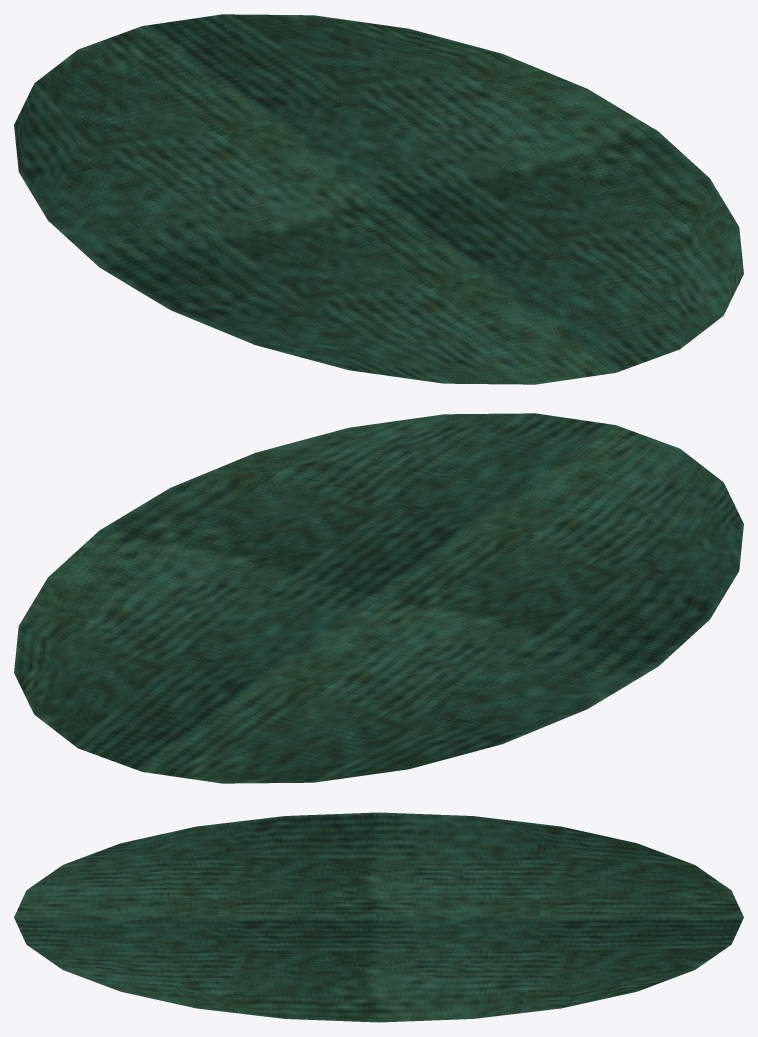
File: tapete_oval.fbx
3 renders of one model, top to bottom at view 1: azimuth 30°, elevation 25°; view 2: azimuth 150°, elevation 25°; view 3: azimuth 270°, elevation 25°, orthographic. The views are drawn at different scales.
Parts seen in each view (by area): view 1: Plane; view 2: Plane; view 3: Plane.
Part boxes in pixels (box(x1,y1,x2,y2)): Plane: box(14, 14, 743, 384); Plane: box(14, 413, 743, 783); Plane: box(14, 812, 743, 1022).
Size of the model in its own units: 247 by 5.91e-05 by 363.
Materials: 1 (1 with a texture image).
